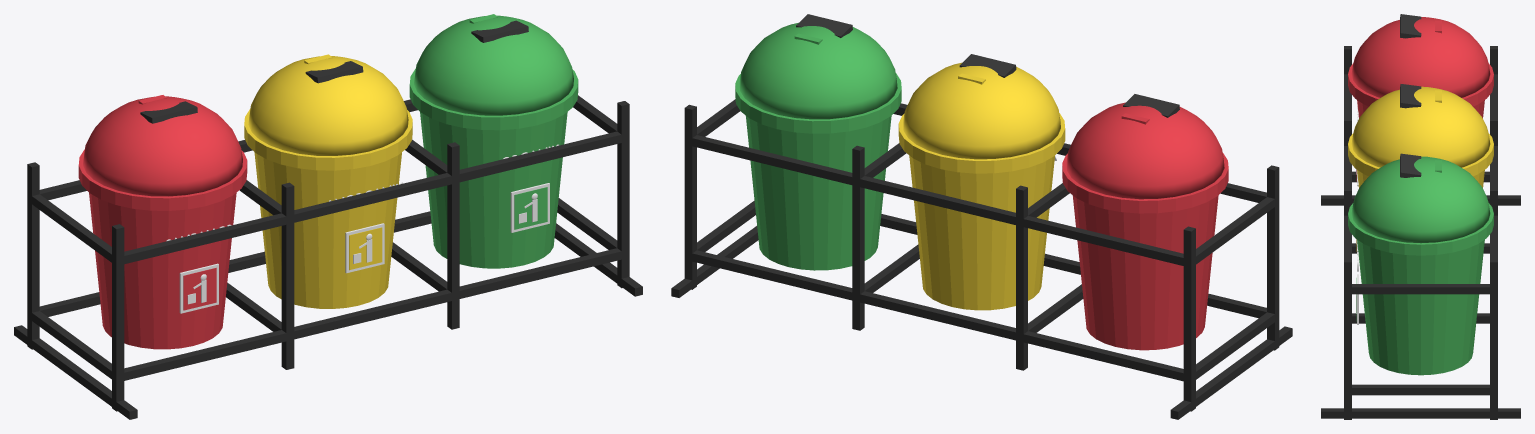
Rendered from Tempat samph.fbx.
3 views of the same model, side by side, from view 1: azimuth 30°, elevation 25°; view 2: azimuth 150°, elevation 25°; view 3: azimuth 270°, elevation 25° (orthographic). The views are drawn at different scales.
Visible parts, largest first — view 1: Tempat_Sampah_3Warna; view 2: Tempat_Sampah_3Warna; view 3: Tempat_Sampah_3Warna.
Boxes of the visible parts, box(x1,y1,x2,y2) form: Tempat_Sampah_3Warna: box(14, 14, 642, 419); Tempat_Sampah_3Warna: box(671, 14, 1292, 419); Tempat_Sampah_3Warna: box(1321, 14, 1520, 419).
Size of the model in its own units: 295 by 139 by 115.
